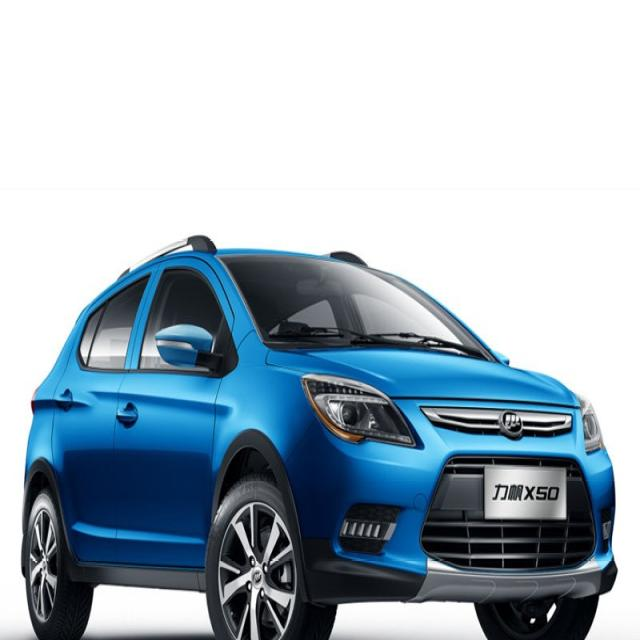door: (57, 271, 156, 569)
front_bumper: (281, 454, 619, 600)
front_glass: (211, 248, 497, 365)
front_left_side_light: (574, 393, 608, 466)
front_right_side_door: (107, 243, 253, 592)
front_right_side_light: (301, 370, 424, 456)
front_right_side_mirror: (150, 319, 237, 388)
wheel: (204, 482, 338, 640), (22, 473, 96, 640)
